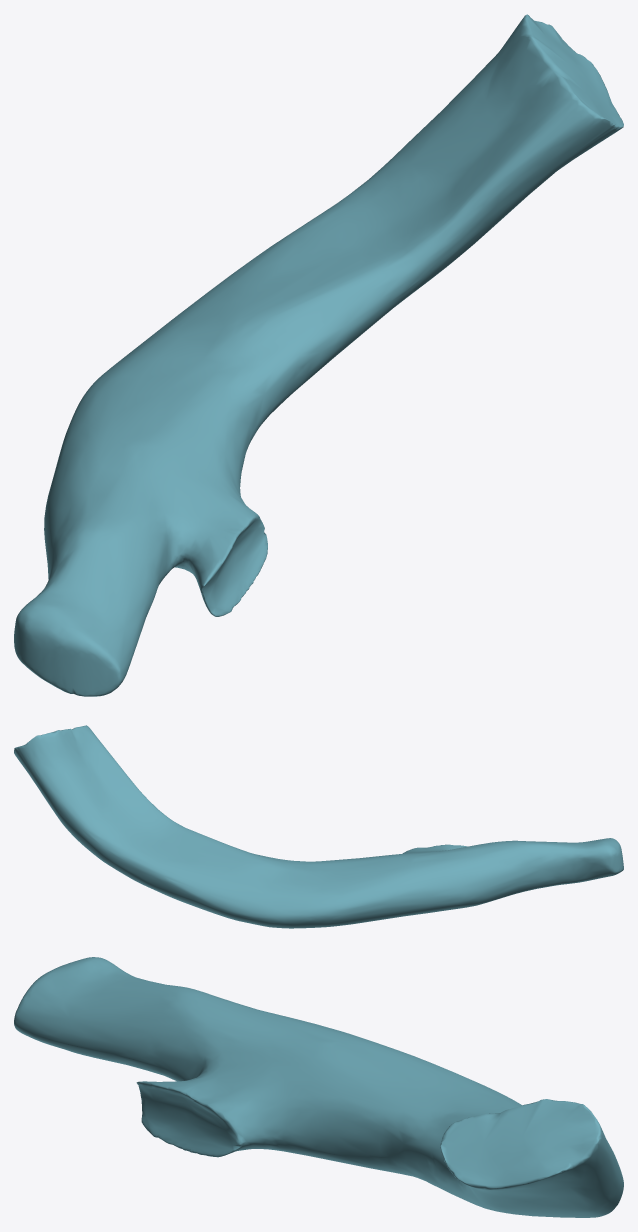
The picture shows the model from 3 angles, top to bottom: view 1: azimuth 30°, elevation 25°; view 2: azimuth 150°, elevation 25°; view 3: azimuth 270°, elevation 25°; orthographic projection. The views are drawn at different scales.
Visible parts, largest first — view 1: 左侧第七肋软骨; view 2: 左侧第七肋软骨; view 3: 左侧第七肋软骨.
Boxes of the visible parts, bbox=[...] form: 左侧第七肋软骨: bbox=[14, 14, 623, 696]; 左侧第七肋软骨: bbox=[14, 725, 623, 928]; 左侧第七肋软骨: bbox=[14, 957, 623, 1217].
Bounding box in the file's own units: 0.1592 × 0.054 × 0.1112.
